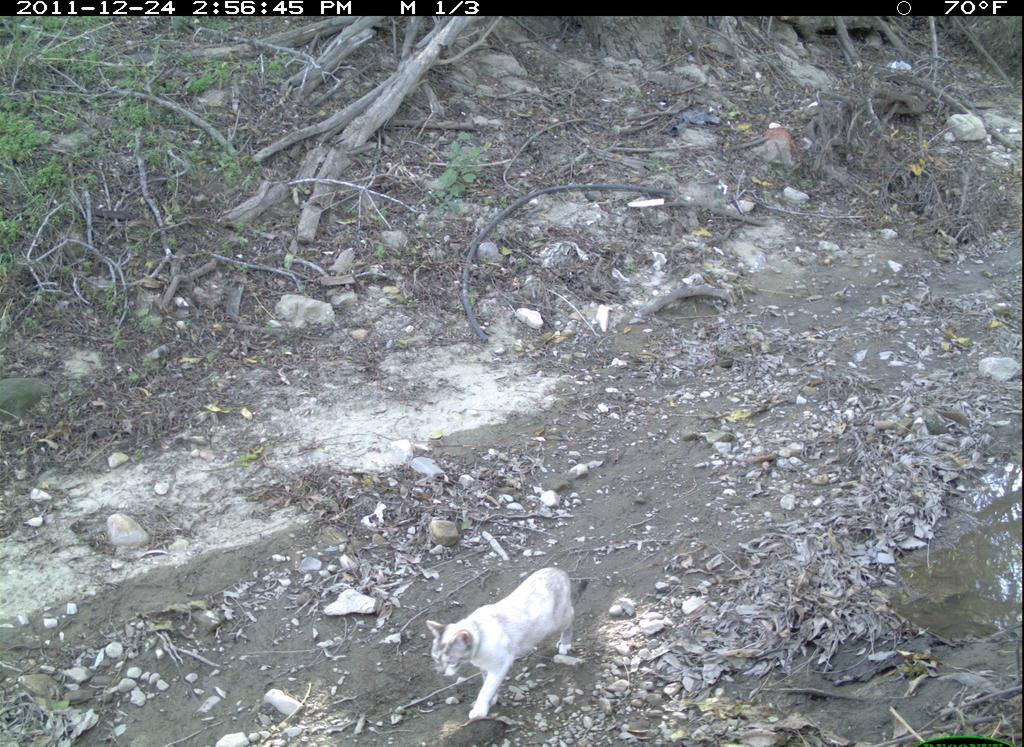cat: (419, 566, 591, 725)
